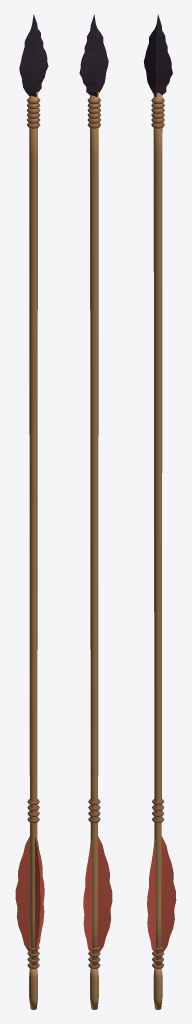
The model's file is tlacochtli.glb.
The picture shows the model from 3 angles, left to right: view 1: azimuth 30°, elevation 25°; view 2: azimuth 210°, elevation 25°; view 3: azimuth 330°, elevation 25°; orthographic projection.
Visible parts, largest first — view 1: Tlacochtli; view 2: Tlacochtli; view 3: Tlacochtli.
Boxes of the visible parts, <box> form: Tlacochtli: <box>15,14,48,1009</box>; Tlacochtli: <box>79,14,112,1009</box>; Tlacochtli: <box>143,14,176,1009</box>.
Size of the model in its own units: 0.0566 by 1.84 by 0.049.
